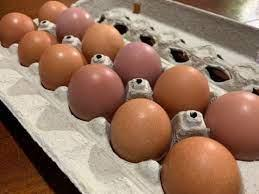egg: (160, 134, 242, 194), (106, 99, 172, 166), (204, 89, 259, 160), (64, 60, 122, 119), (154, 59, 208, 117), (38, 43, 84, 91), (120, 40, 162, 86), (18, 27, 52, 64), (85, 24, 123, 57), (1, 11, 32, 45), (56, 7, 91, 37)
